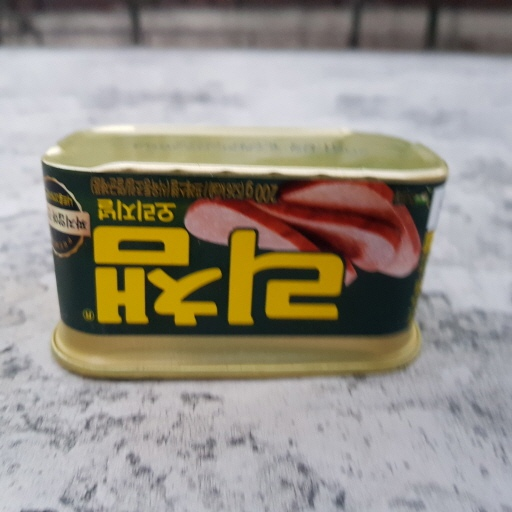Metal_2: (37, 122, 450, 374)
